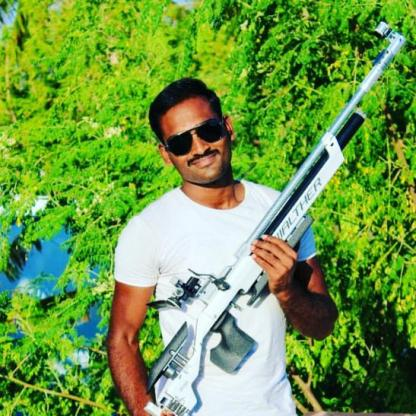rifle: (143, 20, 408, 415)
